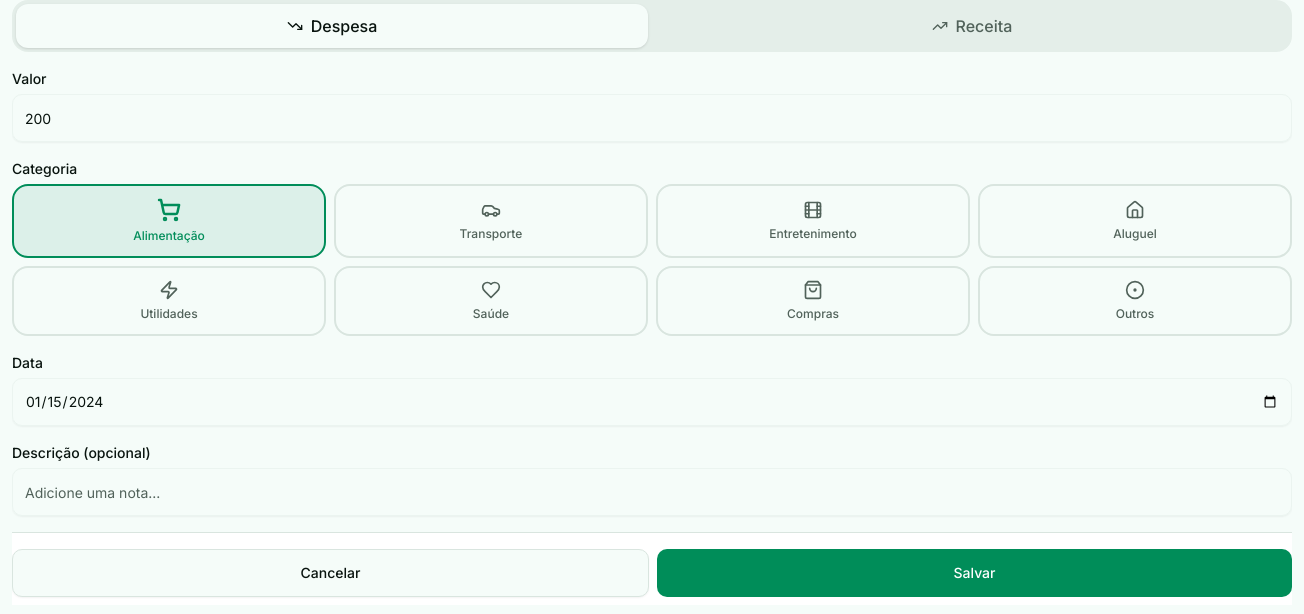
Test: TransactionForm Integration › Edit mode › clears predefined category when switching to invalid type
This screenshot has width=1304, height=614.
Note: Switch to income
Click the button "Receita" at coordinates (972, 26), box x1=656 y1=4 x2=1288 y2=48
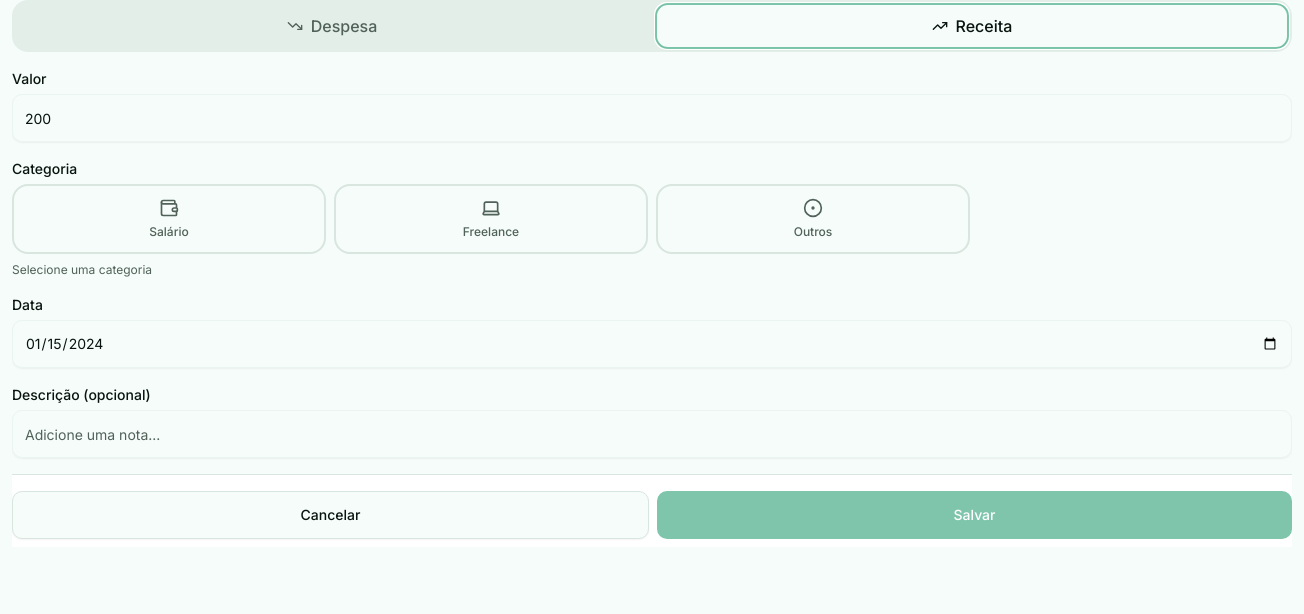
Expected: the button with test id "tx-category-Groceries" is gone
Expected: the button with test id "tx-submit" is disabled, x1=657 y1=491 x2=1292 y2=539
